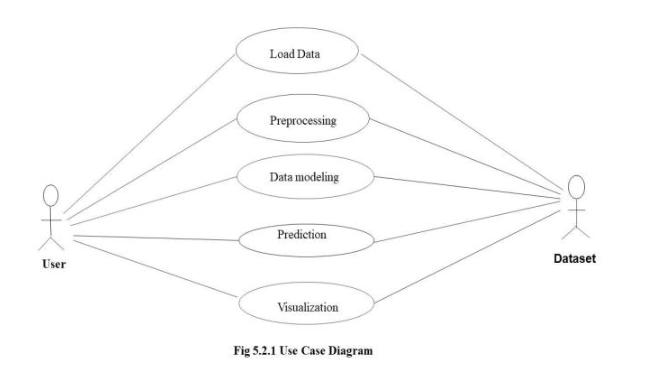actor: (37, 179, 69, 252), (559, 172, 591, 241)
association: (361, 52, 564, 193), (62, 54, 234, 216), (376, 209, 560, 301), (68, 118, 234, 219), (373, 118, 562, 196), (72, 237, 239, 298), (71, 175, 235, 227), (378, 201, 561, 245), (376, 174, 560, 200), (72, 228, 239, 247)
text: (228, 337, 382, 365), (266, 111, 340, 131), (271, 298, 347, 317), (266, 168, 343, 185), (262, 45, 330, 62), (549, 249, 605, 268), (274, 227, 331, 244), (38, 256, 76, 274)
use_case: (236, 91, 370, 144), (234, 151, 375, 199), (232, 25, 359, 75), (236, 279, 375, 324), (238, 221, 376, 260)
